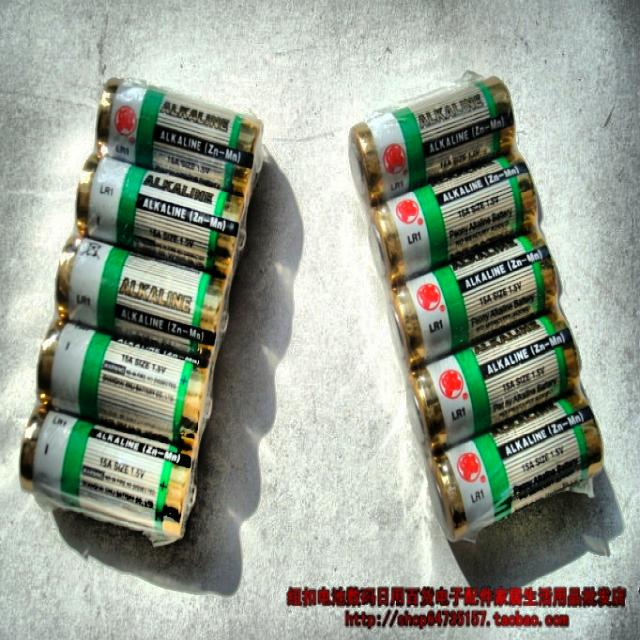Non-Valuable Waste - Batteries: (427, 390, 602, 541), (20, 408, 195, 544), (408, 313, 579, 451), (390, 232, 559, 369), (370, 154, 540, 286), (352, 72, 515, 205), (39, 322, 209, 447), (57, 237, 227, 361), (77, 156, 245, 276), (99, 79, 263, 195)
